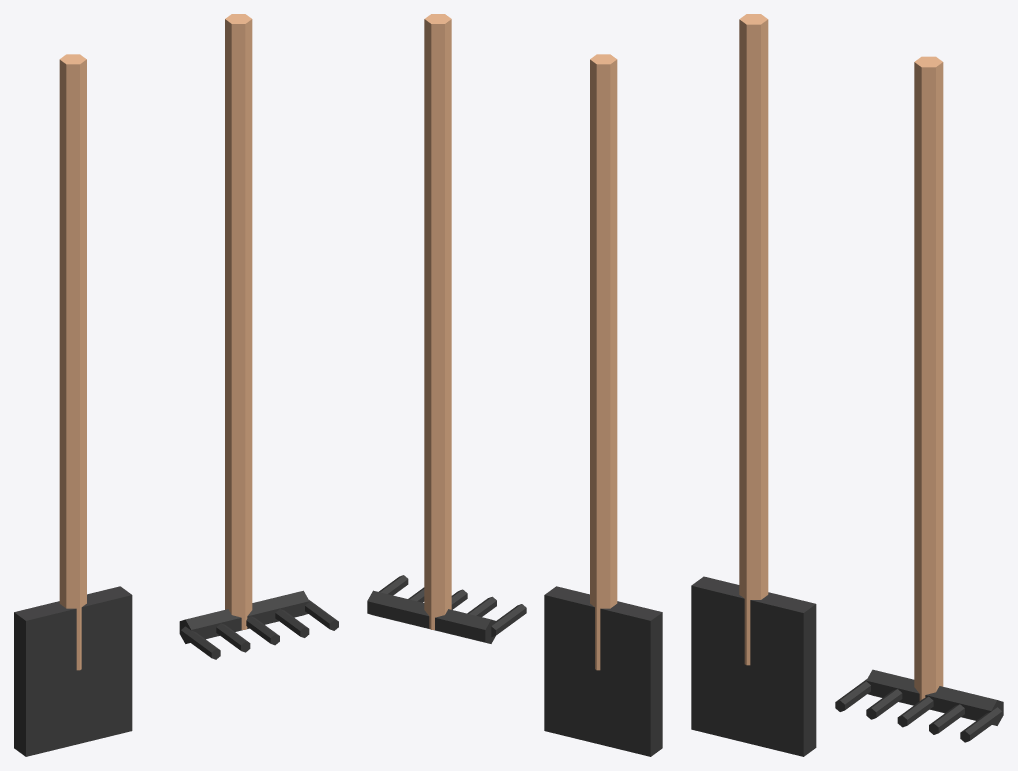
3 renders of one model, left to right at view 1: azimuth 30°, elevation 25°; view 2: azimuth 150°, elevation 25°; view 3: azimuth 330°, elevation 25°, orthographic. The views are drawn at different scales.
Parts seen in each view (by area): view 1: Spade, Tool handle.001, Tool handle, Rake head; view 2: Spade, Tool handle.001, Tool handle, Rake head, Rake tine; view 3: Tool handle.001, Spade, Tool handle, Rake head, Rake tine.004.
Boxes of the visible parts, left/top/right/bottom form: Spade: left=14, top=586, right=132, bottom=756; Tool handle.001: left=225, top=14, right=252, bottom=629; Tool handle: left=59, top=54, right=86, bottom=670; Rake head: left=179, top=590, right=309, bottom=643; Spade: left=544, top=586, right=662, bottom=756; Tool handle.001: left=424, top=14, right=451, bottom=629; Tool handle: left=590, top=54, right=617, bottom=670; Rake head: left=367, top=590, right=497, bottom=643; Rake tine: left=491, top=604, right=526, bottom=637; Tool handle.001: left=914, top=56, right=943, bottom=700; Spade: left=691, top=576, right=816, bottom=756; Tool handle: left=739, top=14, right=768, bottom=665; Rake head: left=866, top=669, right=1003, bottom=725; Rake tine.004: left=960, top=707, right=1002, bottom=742.
Bounding box in the file's own units: 48.78 × 110 × 11.
